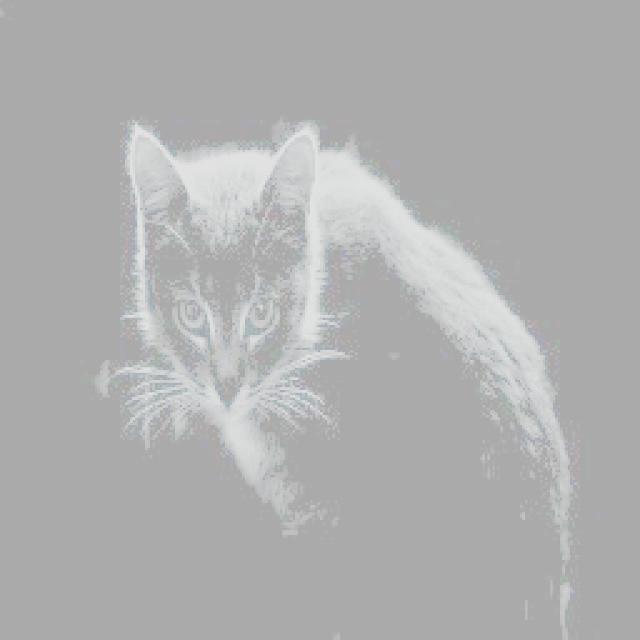cat: (123, 124, 585, 640)
